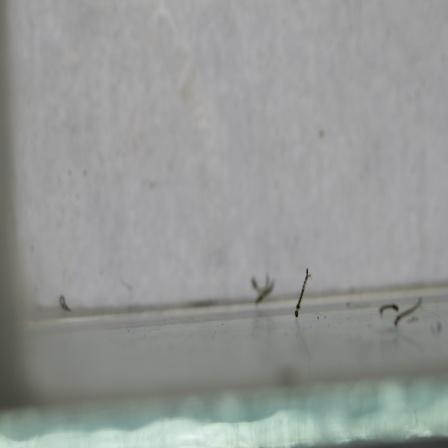Jentik-Nyamuk: (377, 292, 427, 327), (289, 264, 316, 324)
